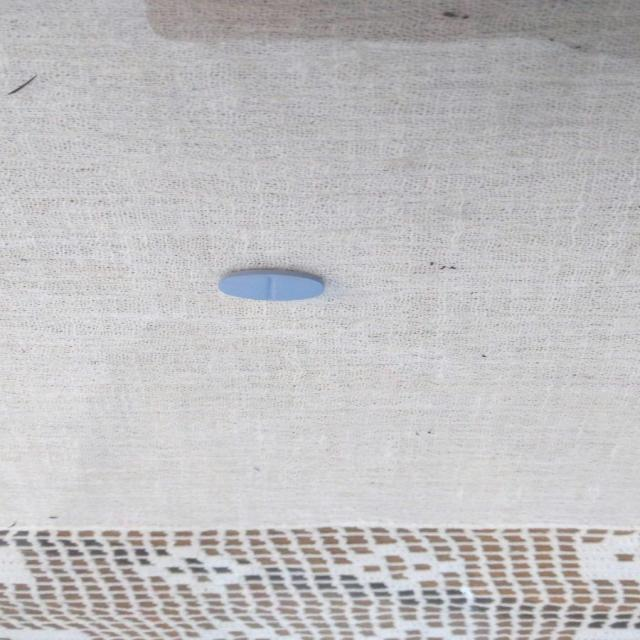pill: (218, 266, 328, 302)
